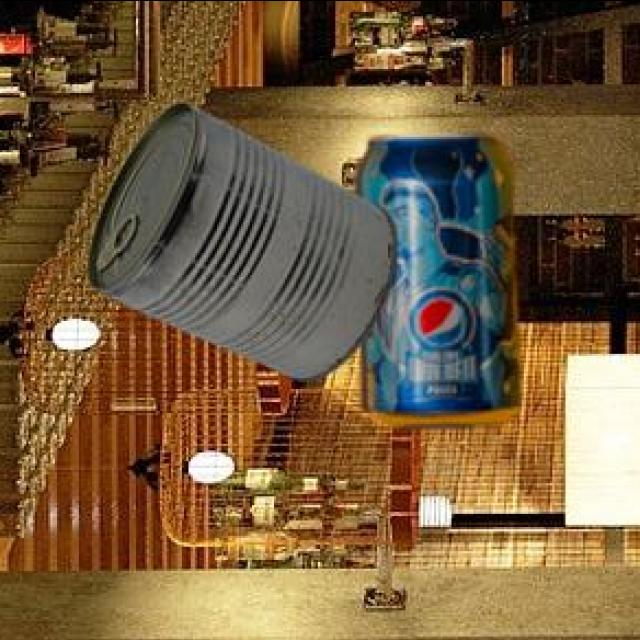logam: (84, 104, 393, 385), (352, 137, 516, 431)
